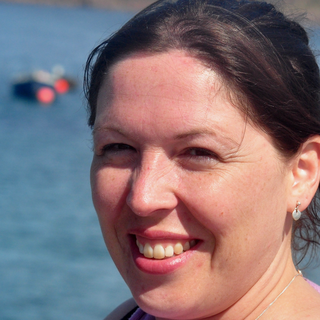eye: (172, 142, 225, 166), (97, 138, 141, 163)
